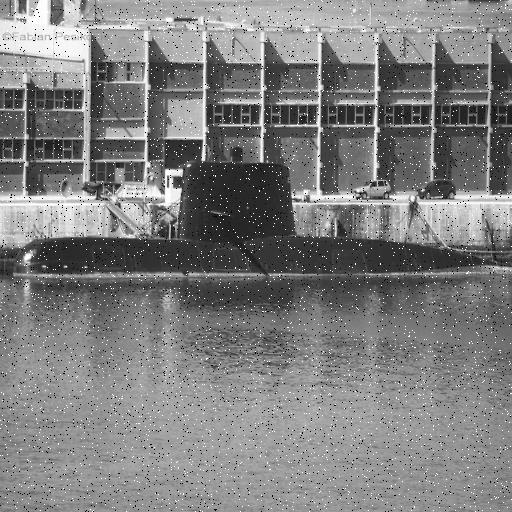submarine: (8, 161, 512, 271)
